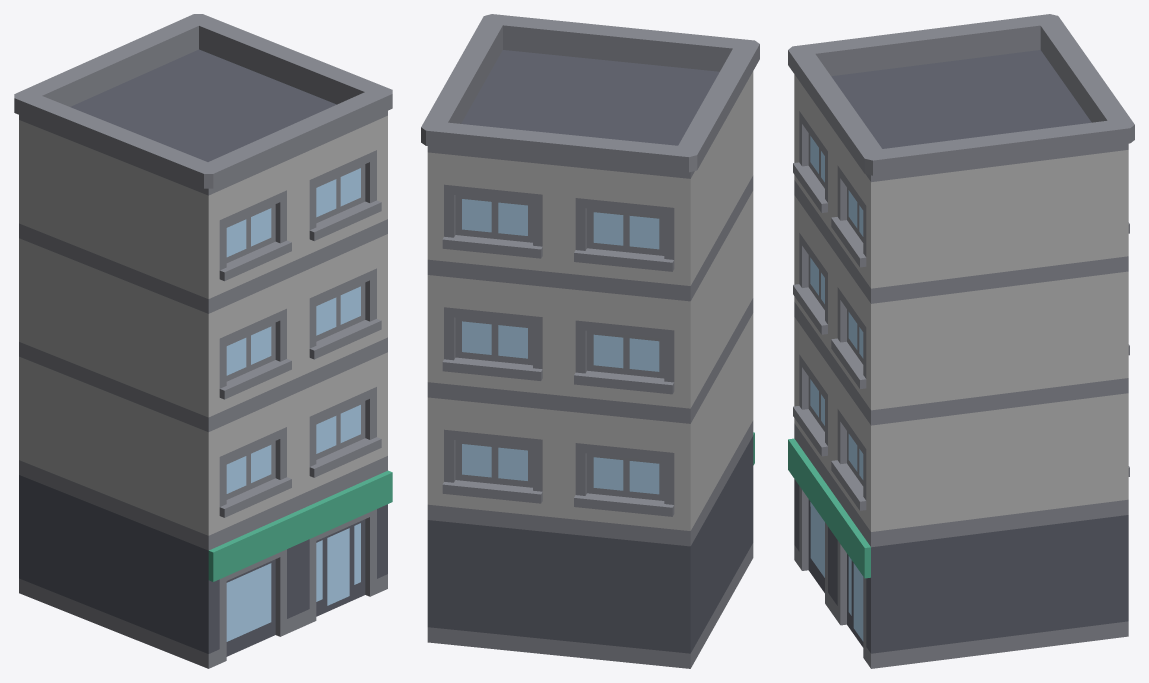
File: large_buildingB.obj
3 renders of one model, left to right at view 1: azimuth 30°, elevation 25°; view 2: azimuth 150°, elevation 25°; view 3: azimuth 270°, elevation 25°, orthographic. The views are drawn at different scales.
Visible parts, largest first — view 1: large_buildingB.003; view 2: large_buildingB.003; view 3: large_buildingB.003.
Boxes of the visible parts, <box> form: large_buildingB.003: <box>14,14,392,668</box>; large_buildingB.003: <box>421,14,759,668</box>; large_buildingB.003: <box>788,14,1134,668</box>.
Size of the model in its own units: 18.87 by 30.67 by 18.87.
